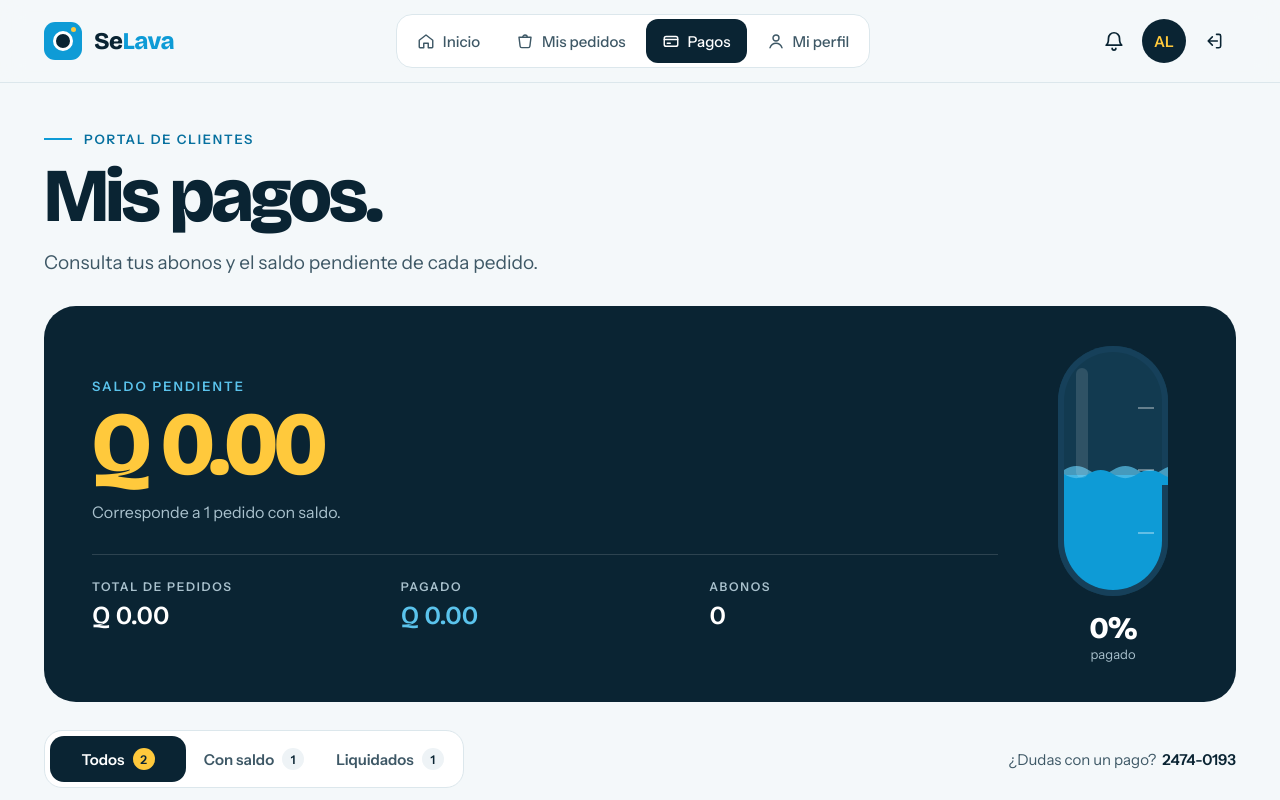
Scenario: pagos propios del cliente SEL-106 › separa los pedidos con saldo de los liquidados
expect the text "Corresponde a 1 pedido con saldo." is shown: met, box [92,502,341,522]
What coordinates should you click on to do the following:
click the tab "Liquidados 1"
I would click on:
 (390, 760)
Its box is [322,736,458,782].
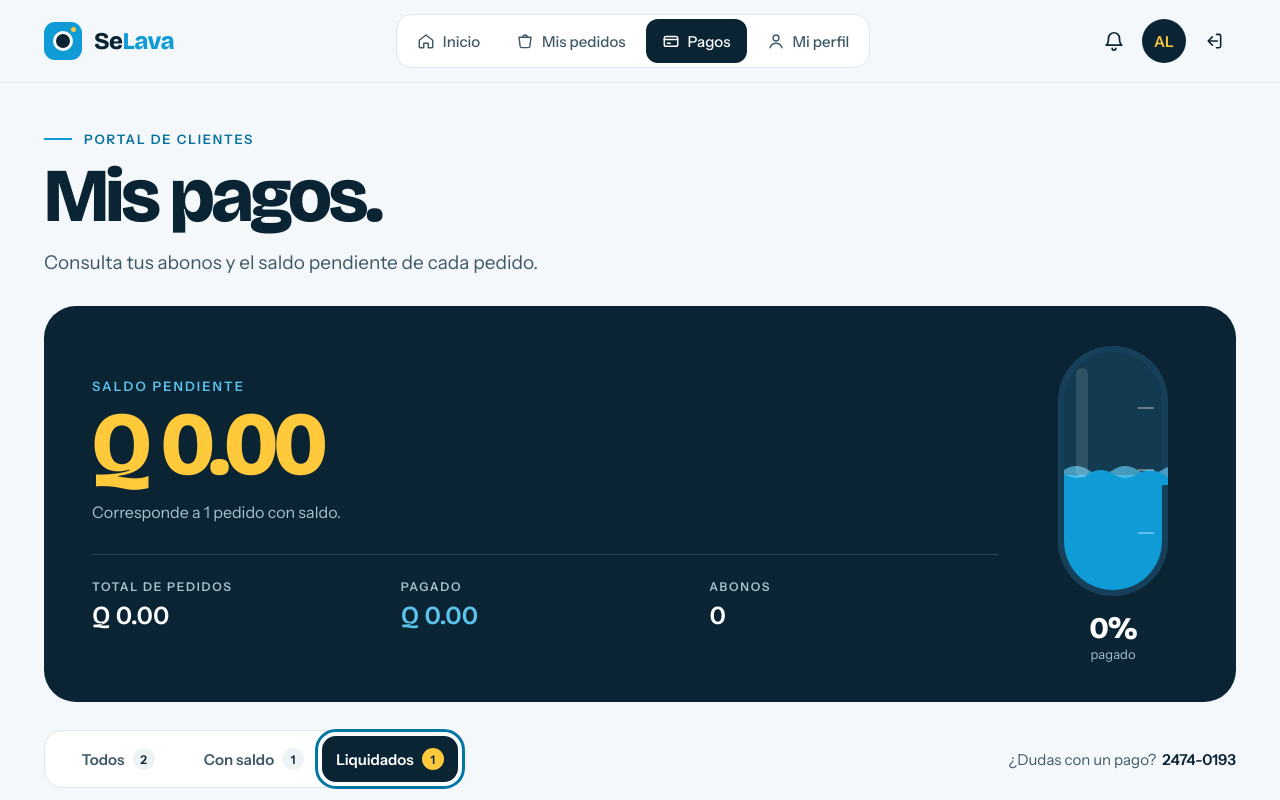
What coordinates should you click on to do the following:
click the tab "Con saldo 1"
I would click on:
 (254, 760)
Its box is [186,736,322,782].
(page scrolled)
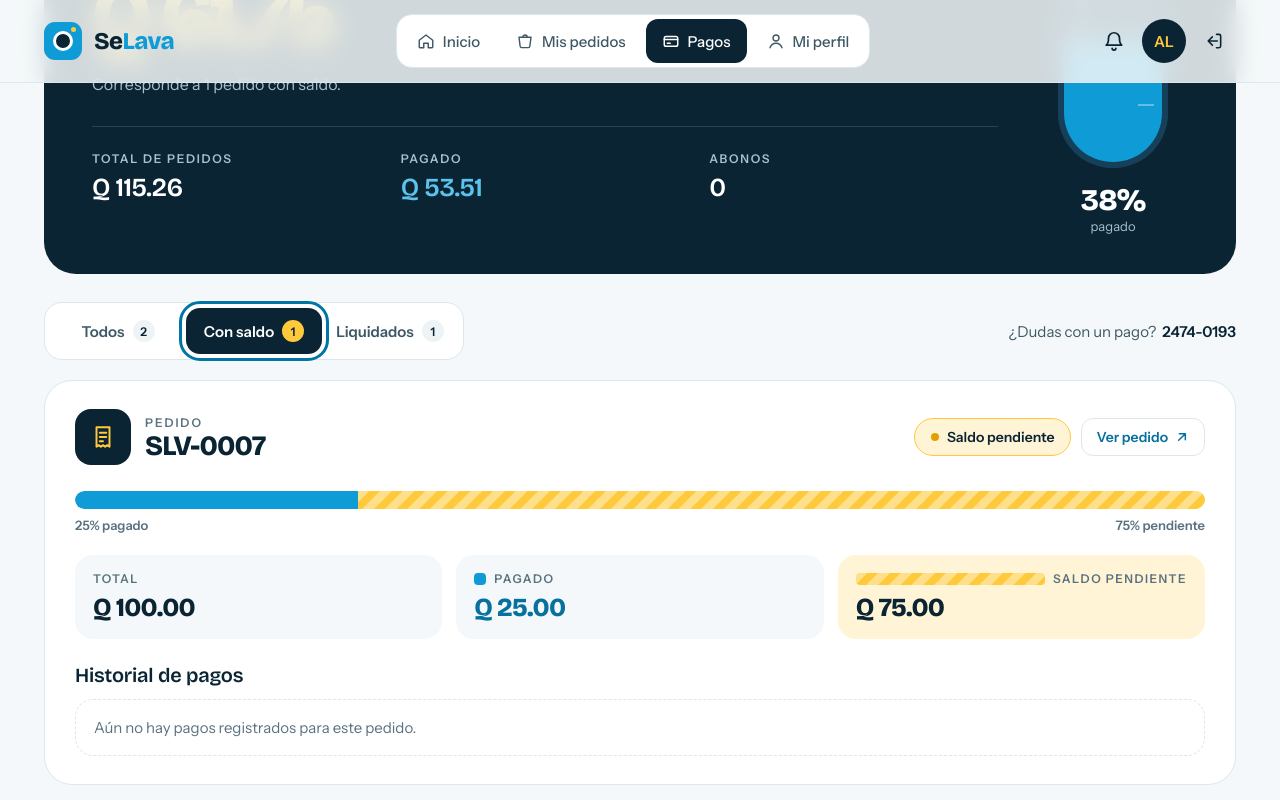
expect the heading "SLV-0007" is shown: met, box [145,432,265,460]
